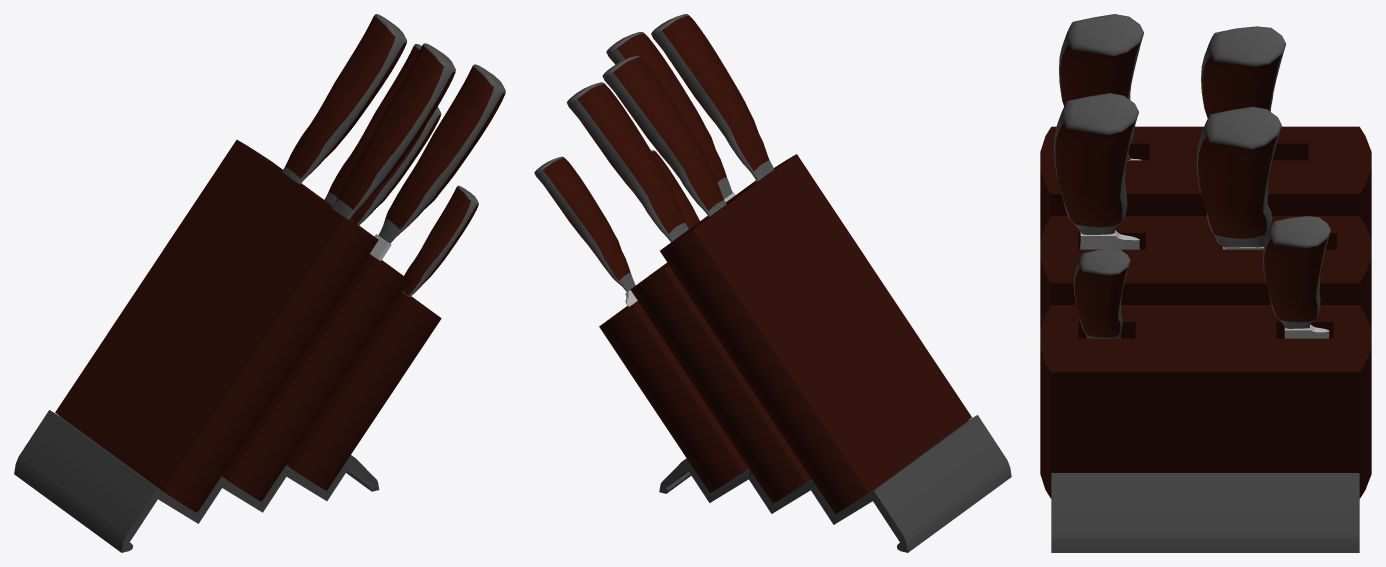
Rendered from Knife kit w box.FBX.
3 views of the same model, side by side, from view 1: azimuth 30°, elevation 25°; view 2: azimuth 150°, elevation 25°; view 3: azimuth 270°, elevation 25° (orthographic). The views are drawn at different scales.
Visible parts, largest first — view 1: Knife box, Knife bread, Knife slicer, Knife Chef, Knife vegetable, Knife santoku, Knife sandwich; view 2: Knife box, Knife slicer, Knife Chef, Knife santoku, Knife sandwich, Knife bread, Knife vegetable; view 3: Knife box, Knife bread, Knife santoku, Knife sandwich, Knife Chef, Knife slicer, Knife vegetable.
Part boxes in pixels (left/top/right/bottom): Knife box: left=14, top=140, right=441, bottom=552; Knife bread: left=370, top=64, right=505, bottom=260; Knife slicer: left=331, top=43, right=455, bottom=219; Knife Chef: left=282, top=14, right=406, bottom=184; Knife vegetable: left=401, top=185, right=478, bottom=297; Knife santoku: left=324, top=44, right=421, bottom=205; Knife sandwich: left=350, top=106, right=441, bottom=224; Knife box: left=599, top=154, right=1011, bottom=552; Knife slicer: left=651, top=14, right=774, bottom=181; Knife Chef: left=602, top=55, right=726, bottom=216; Knife santoku: left=566, top=82, right=688, bottom=242; Knife sandwich: left=534, top=156, right=637, bottom=306; Knife bread: left=606, top=32, right=735, bottom=202; Knife vegetable: left=651, top=150, right=699, bottom=228; Knife box: left=1040, top=126, right=1371, bottom=552; Knife bread: left=1054, top=93, right=1139, bottom=249; Knife santoku: left=1196, top=106, right=1281, bottom=249; Knife sandwich: left=1263, top=216, right=1330, bottom=338; Knife Chef: left=1201, top=26, right=1286, bottom=118; Knife slicer: left=1059, top=14, right=1143, bottom=160; Knife vegetable: left=1073, top=249, right=1130, bottom=338.
Size of the model in its own units: 12.77 by 12.43 by 6.35.
